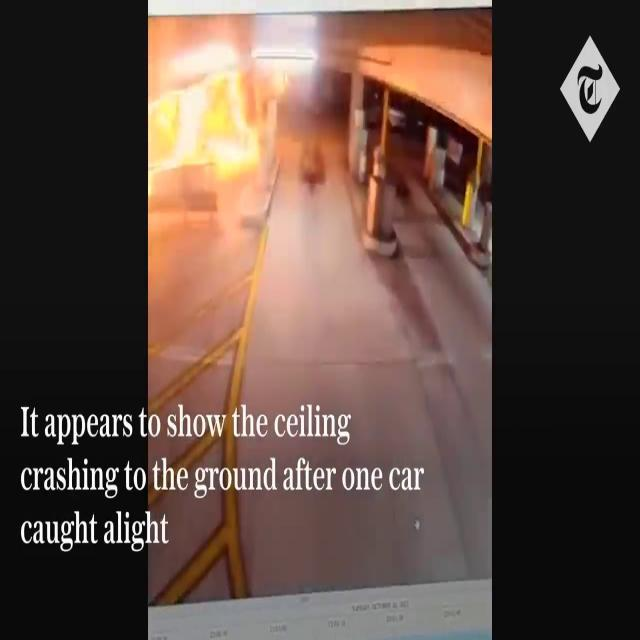Fire: (149, 25, 269, 181)
